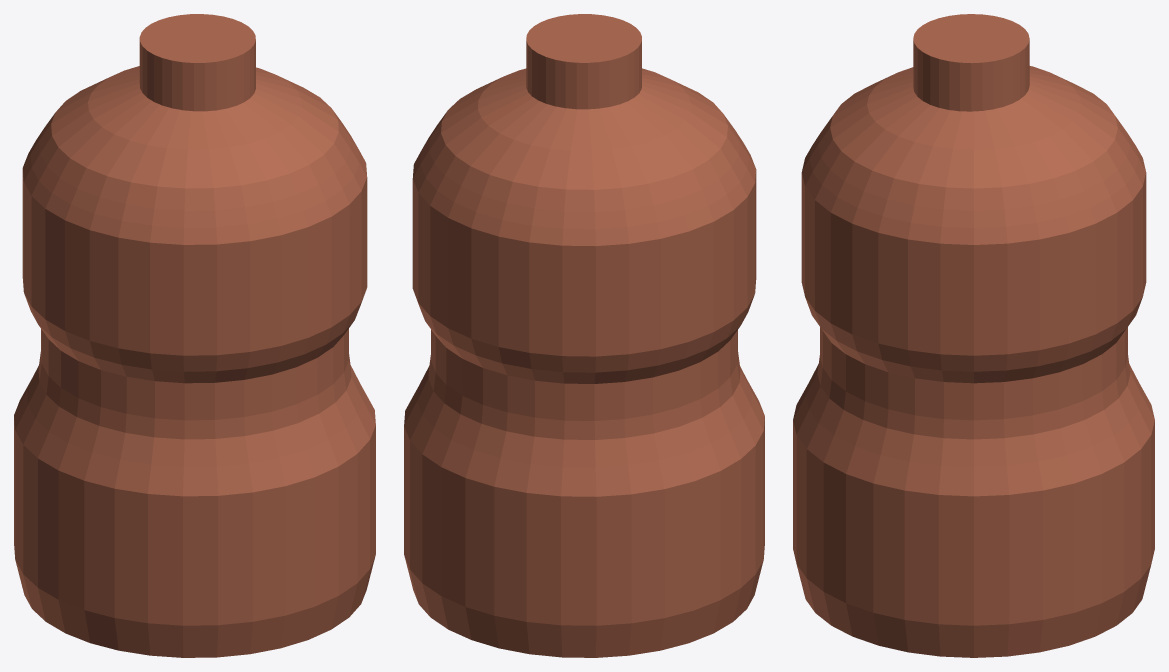
File: Ополаскиватель3Unity.fbx
3 renders of one model, left to right at view 1: azimuth 30°, elevation 25°; view 2: azimuth 150°, elevation 25°; view 3: azimuth 270°, elevation 25°, orthographic.
Visible parts, largest first — view 1: Cylinder; view 2: Cylinder; view 3: Cylinder.
Part boxes in pixels (x1,y1,x2,y2): Cylinder: (14,14,375,657); Cylinder: (404,14,764,657); Cylinder: (793,14,1154,657).
Bounding box in the file's own units: 113 × 188 × 112.
